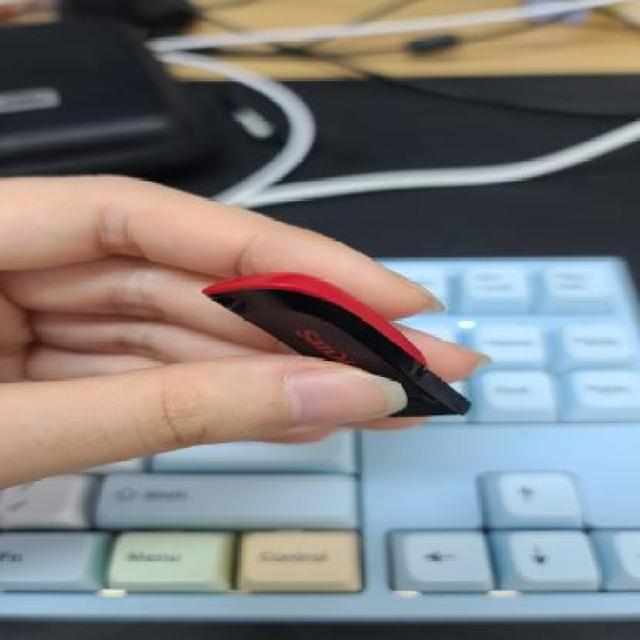Flashdisk: (200, 268, 475, 418)
